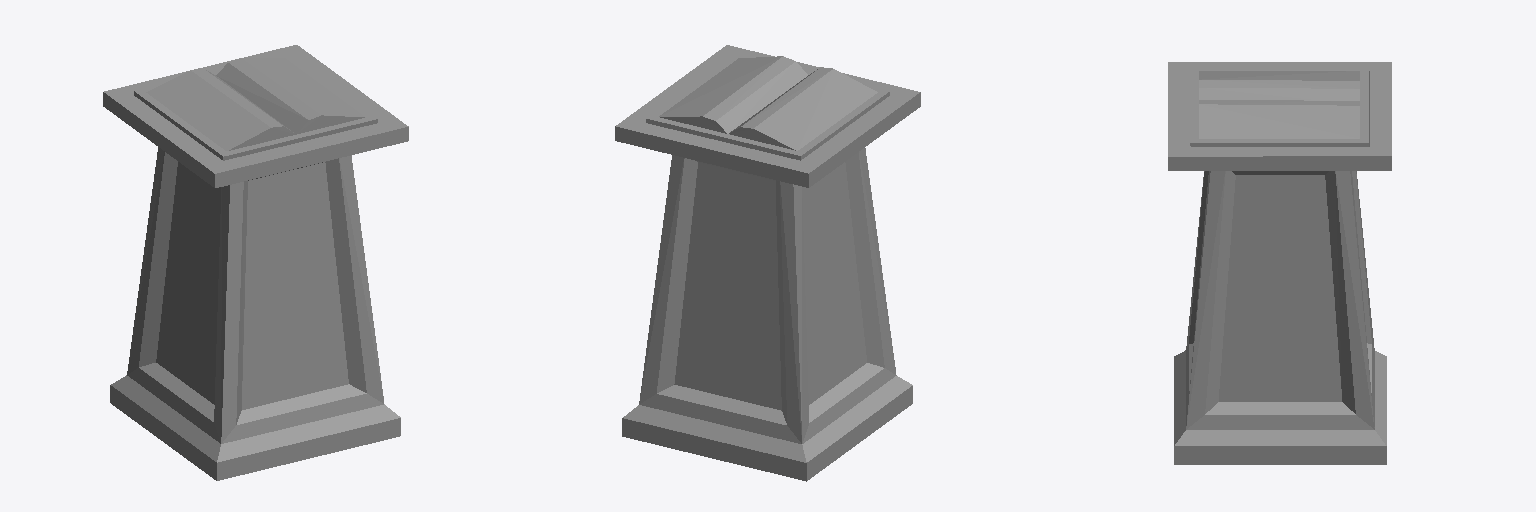
The picture shows the model from 3 angles: view 1: azimuth 30°, elevation 25°; view 2: azimuth 150°, elevation 25°; view 3: azimuth 270°, elevation 25°; orthographic projection.
Parts seen in each view (by area): view 1: Bookholder_stone_Bookholder__stone; view 2: Bookholder_stone_Bookholder__stone; view 3: Bookholder_stone_Bookholder__stone.
Part boxes in pixels (x1,y1,x2,y2): Bookholder_stone_Bookholder__stone: (103, 45, 408, 480); Bookholder_stone_Bookholder__stone: (615, 45, 920, 481); Bookholder_stone_Bookholder__stone: (1168, 62, 1391, 464).
Size of the model in its own units: 0.9884 by 1.6 by 0.9888.